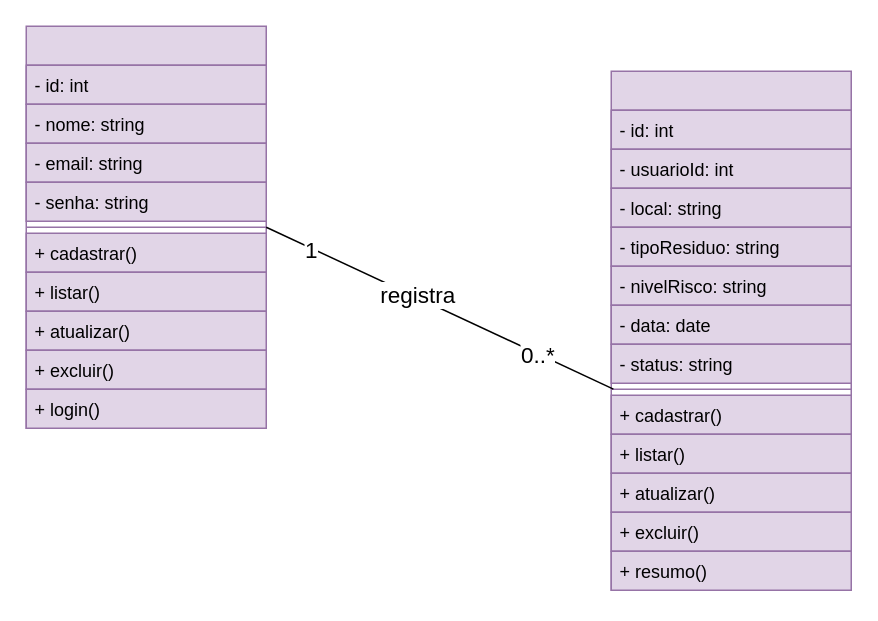
This 878x621 diagram has some shape labels left out. The shapes that lost their labels are listed below. From the top down, each one's box as (x1, y1, x2, y2) in pixels, then its label:
(25, 25, 266, 428): usuario
(610, 70, 851, 590): ocorrencia
